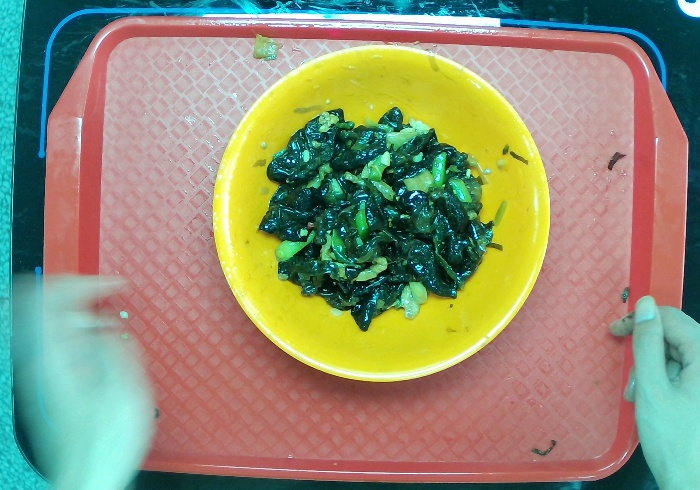YKMZ-Ju_Se_Tang_Wan: (205, 37, 561, 394)
